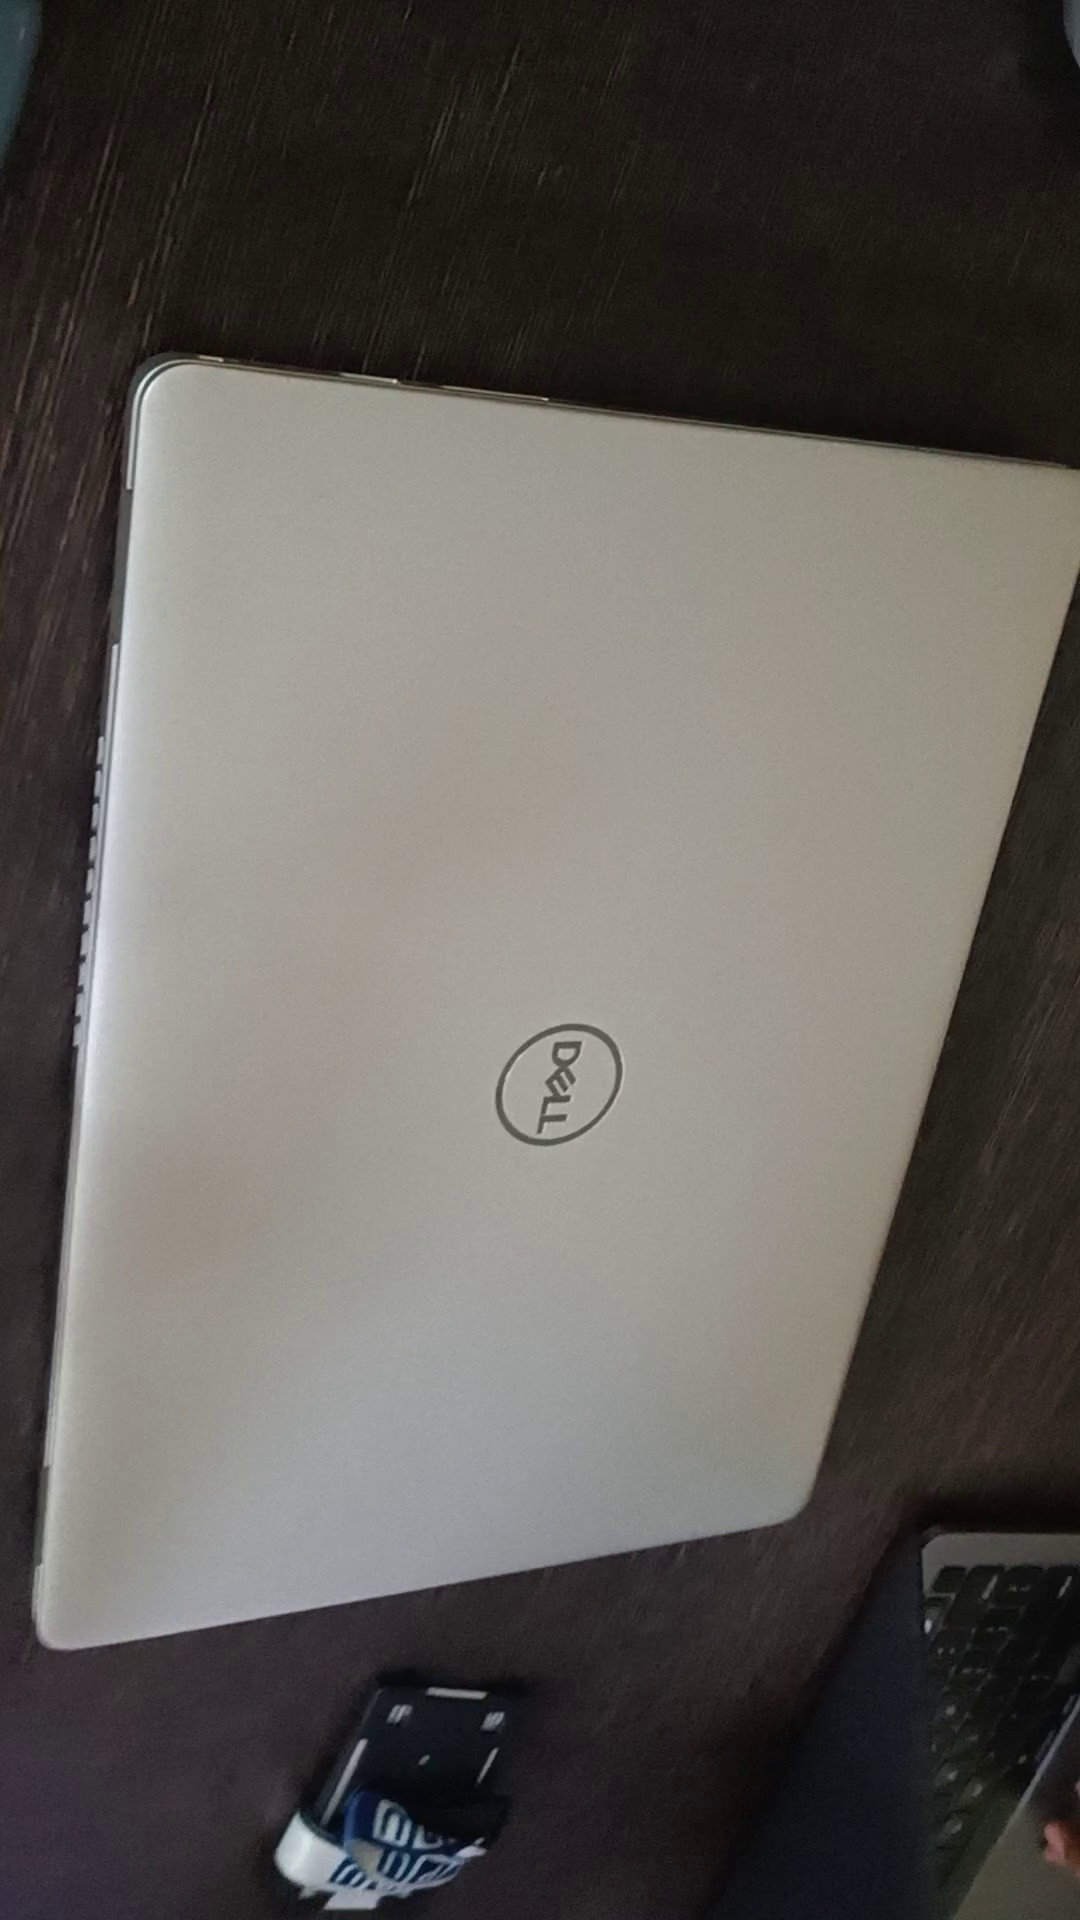laptop: (63, 301, 1056, 1585)
